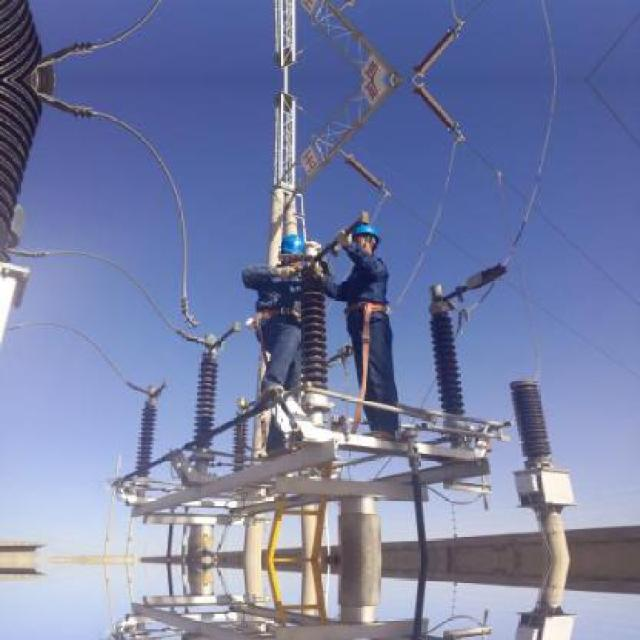helmet: (276, 232, 310, 270), (349, 222, 383, 258)
